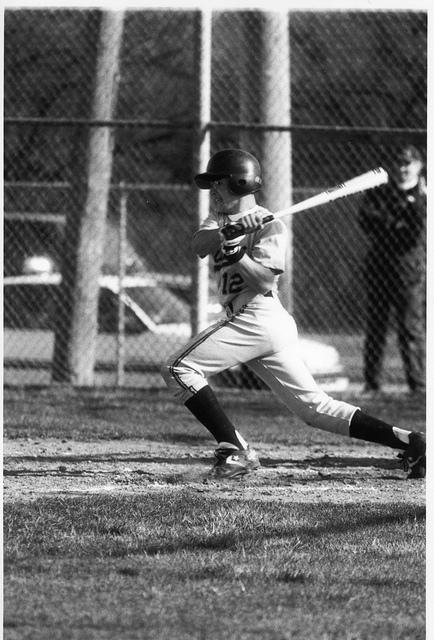car: (2, 274, 352, 395), (3, 209, 146, 278)
